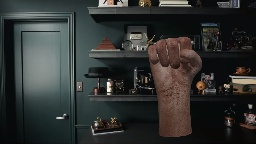Pugno: (144, 35, 204, 95)
